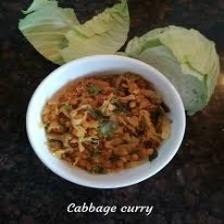sabzi: (43, 69, 173, 177)
